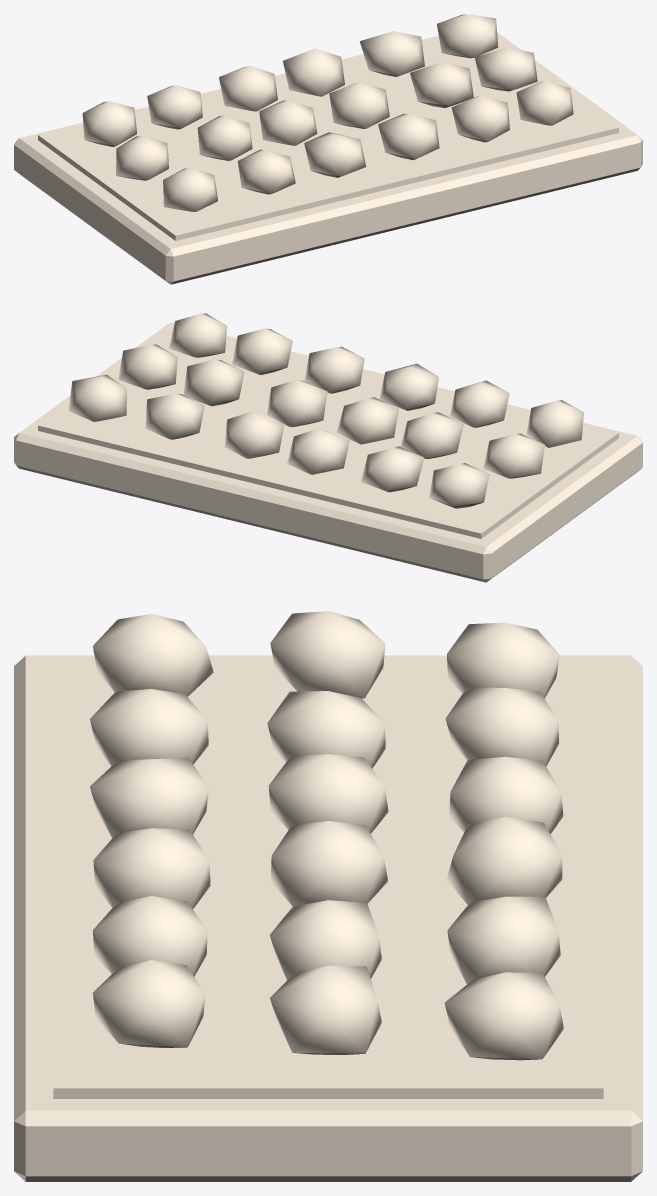
Rendered from SM_VK_Prop_GardenBed.fbx.
3 views of the same model, one above another, from view 1: azimuth 30°, elevation 25°; view 2: azimuth 150°, elevation 25°; view 3: azimuth 270°, elevation 25° (orthographic). The views are drawn at different scales.
Parts seen in each view (by area): view 1: SM_VK_Prop_GardenBed.001; view 2: SM_VK_Prop_GardenBed.001; view 3: SM_VK_Prop_GardenBed.001.
Boxes of the visible parts, left/top/right/bottom form: SM_VK_Prop_GardenBed.001: left=14, top=14, right=642, bottom=284; SM_VK_Prop_GardenBed.001: left=14, top=313, right=642, bottom=582; SM_VK_Prop_GardenBed.001: left=14, top=611, right=642, bottom=1181.
Bounding box in the file's own units: 2.8 × 0.4703 × 1.6.
